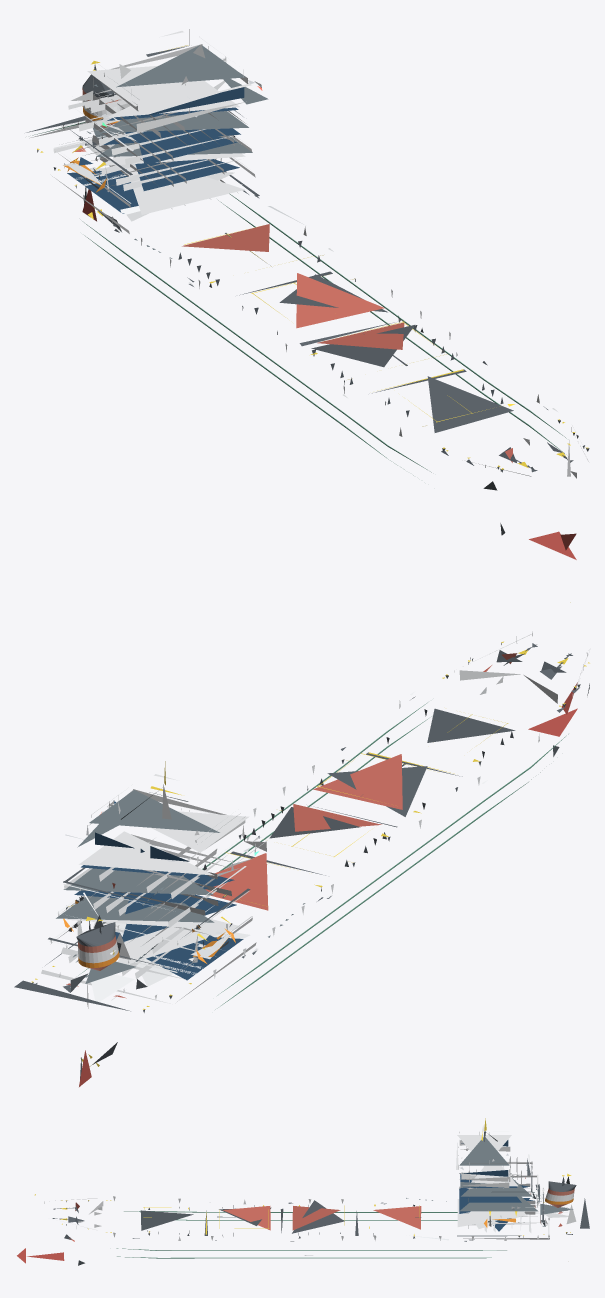
Rendered from ship_10.glb.
3 views of the same model, one above another, from view 1: azimuth 30°, elevation 25°; view 2: azimuth 150°, elevation 25°; view 3: azimuth 270°, elevation 25° (orthographic). The views are drawn at different scales.
Parts seen in each view (by area): view 1: TrueHelm_Ship_10; view 2: TrueHelm_Ship_10; view 3: TrueHelm_Ship_10.
Boxes of the visible parts, box(x1,y1,x2,y2) form: TrueHelm_Ship_10: box(26, 29, 589, 559); TrueHelm_Ship_10: box(14, 602, 589, 1086); TrueHelm_Ship_10: box(17, 1118, 589, 1265).
Bounding box in the file's own units: 0.1195 × 0.191 × 0.6783.
